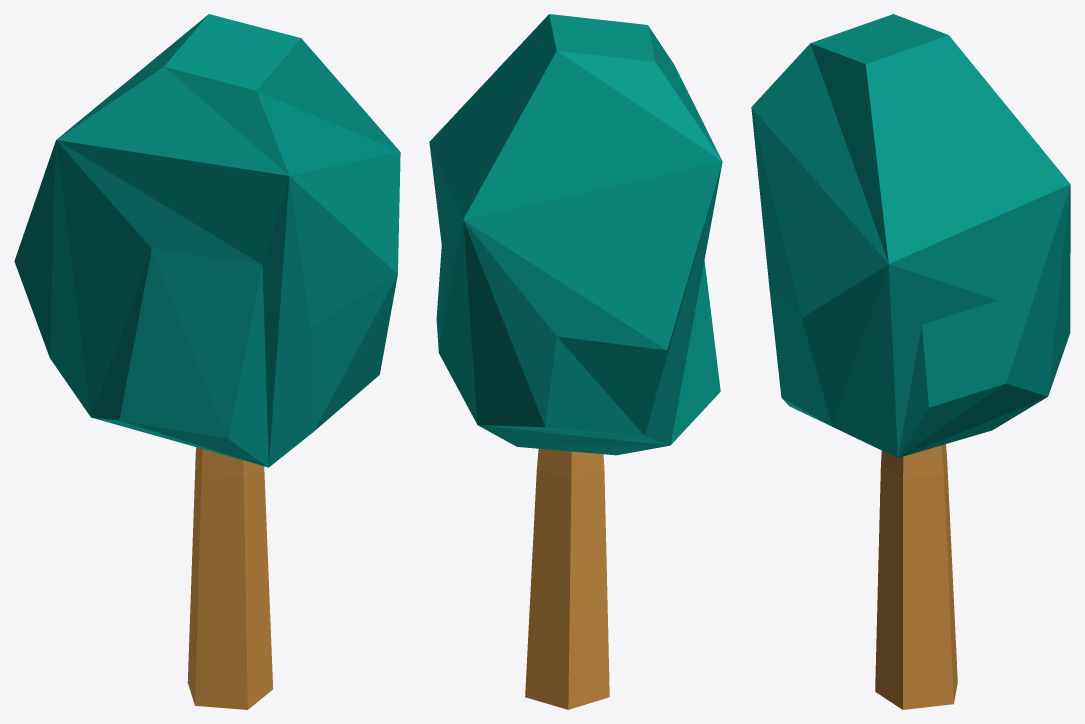
Rendered from tree_06_mesh1206298165.glb.
3 renders of one model, left to right at view 1: azimuth 30°, elevation 25°; view 2: azimuth 150°, elevation 25°; view 3: azimuth 270°, elevation 25°, orthographic. The views are drawn at different scales.
Parts seen in each view (by area): view 1: part_1_mesh1206298165, part_2_mesh1206298165_1; view 2: part_1_mesh1206298165, part_2_mesh1206298165_1; view 3: part_1_mesh1206298165, part_2_mesh1206298165_1.
Boxes of the visible parts, bbox=[...] form: part_1_mesh1206298165: bbox=[14, 14, 400, 467]; part_2_mesh1206298165_1: bbox=[187, 447, 272, 709]; part_1_mesh1206298165: bbox=[429, 14, 722, 455]; part_2_mesh1206298165_1: bbox=[525, 448, 609, 709]; part_1_mesh1206298165: bbox=[751, 14, 1070, 457]; part_2_mesh1206298165_1: bbox=[875, 444, 957, 709].
Bounding box in the file's own units: 0.1853 × 0.3672 × 0.162.
